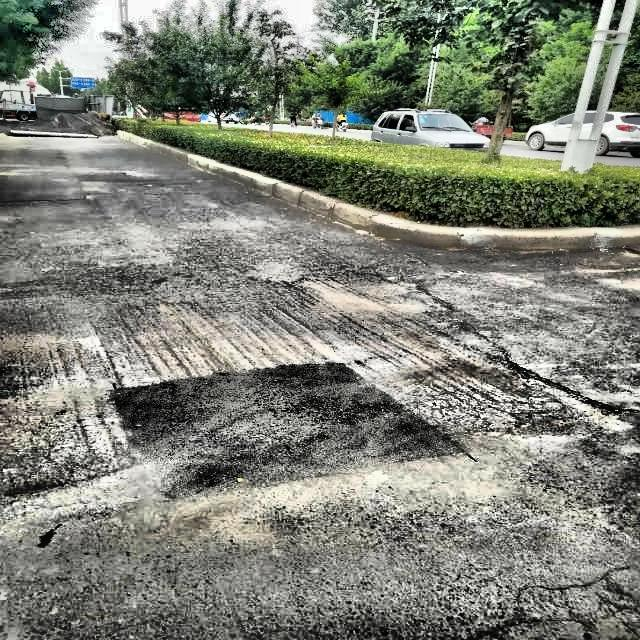buraco: (83, 361, 463, 490)
